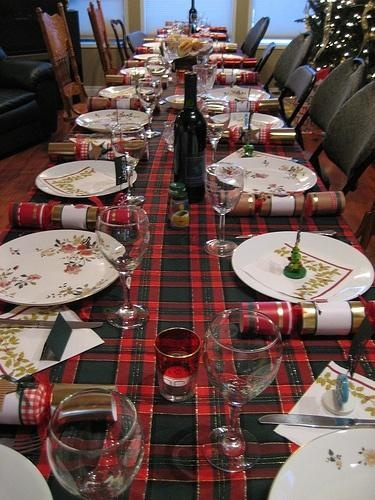bottle: (174, 68, 209, 198), (183, 1, 200, 35)
chair: (307, 80, 375, 192), (35, 9, 96, 119), (298, 56, 366, 138), (266, 29, 313, 91), (85, 5, 118, 81), (275, 66, 312, 120), (240, 12, 266, 51), (251, 41, 275, 75)
diningtable: (3, 21, 375, 497)
